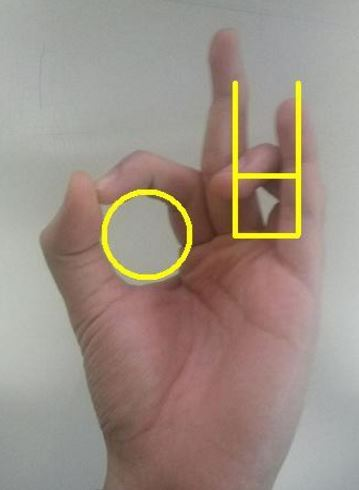ilbe: (34, 25, 327, 479)
